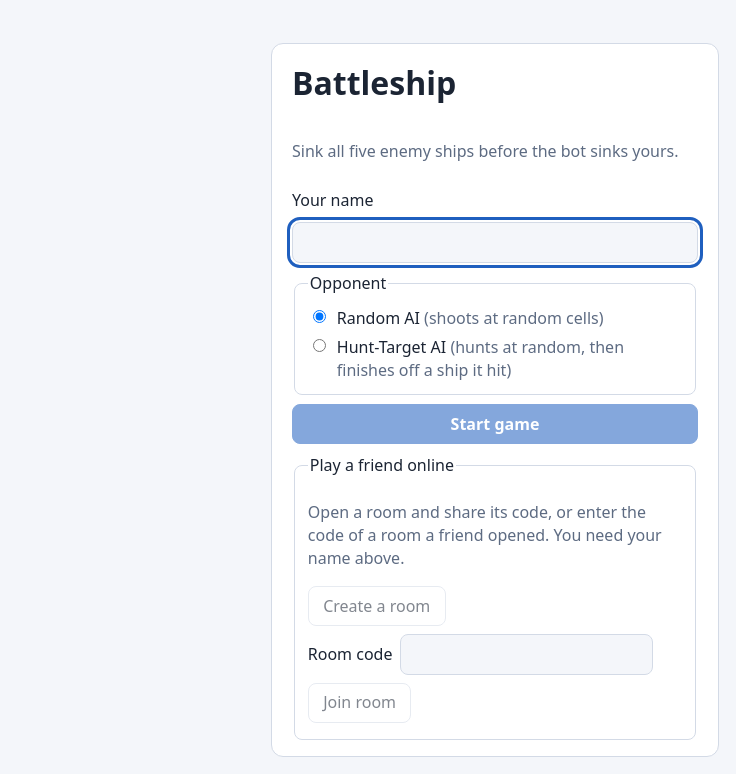
Scenario: App with a friend online › opens a room and shows its code while waiting
Type "Ann" into the field labelled "Your name".
click(495, 242); type("Ann")  # box [292,222,698,263]
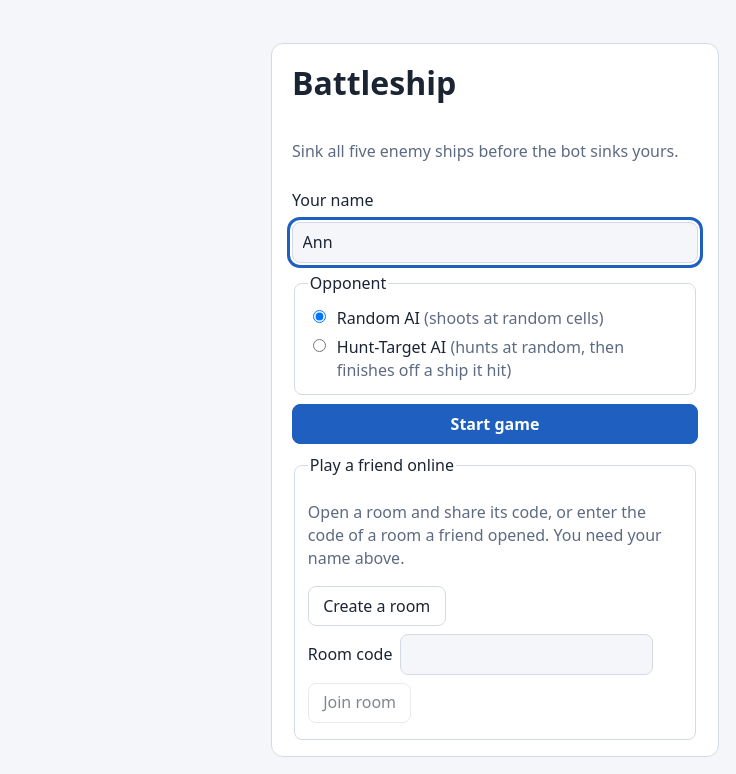
Click the button "Create a room".
click(377, 606)  # box [308,586,446,626]
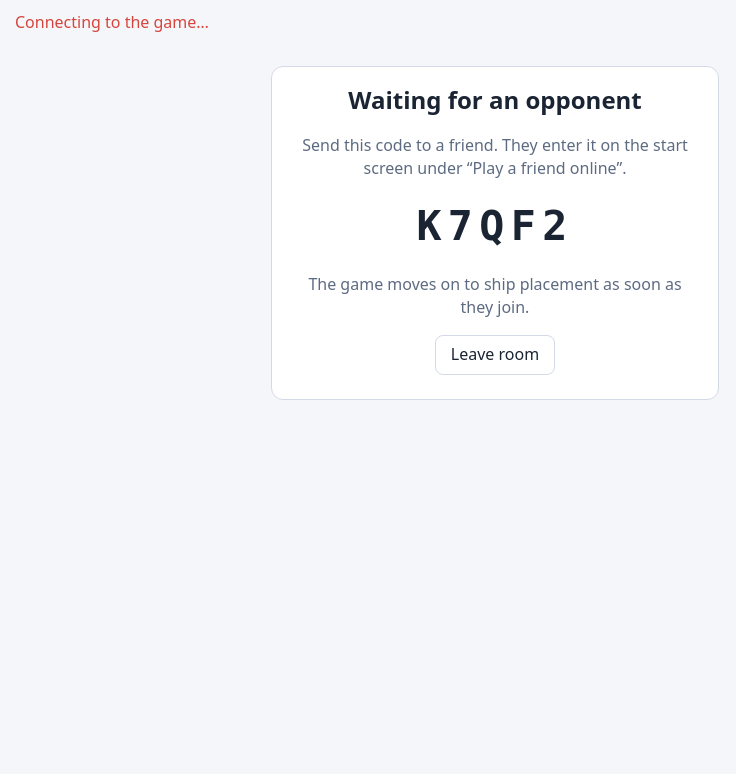
Expected: the heading "Waiting for an opponent" is shown, [348,83,642,116]
Expected: the text "K7QF2" is shown, [416,201,574,250]
